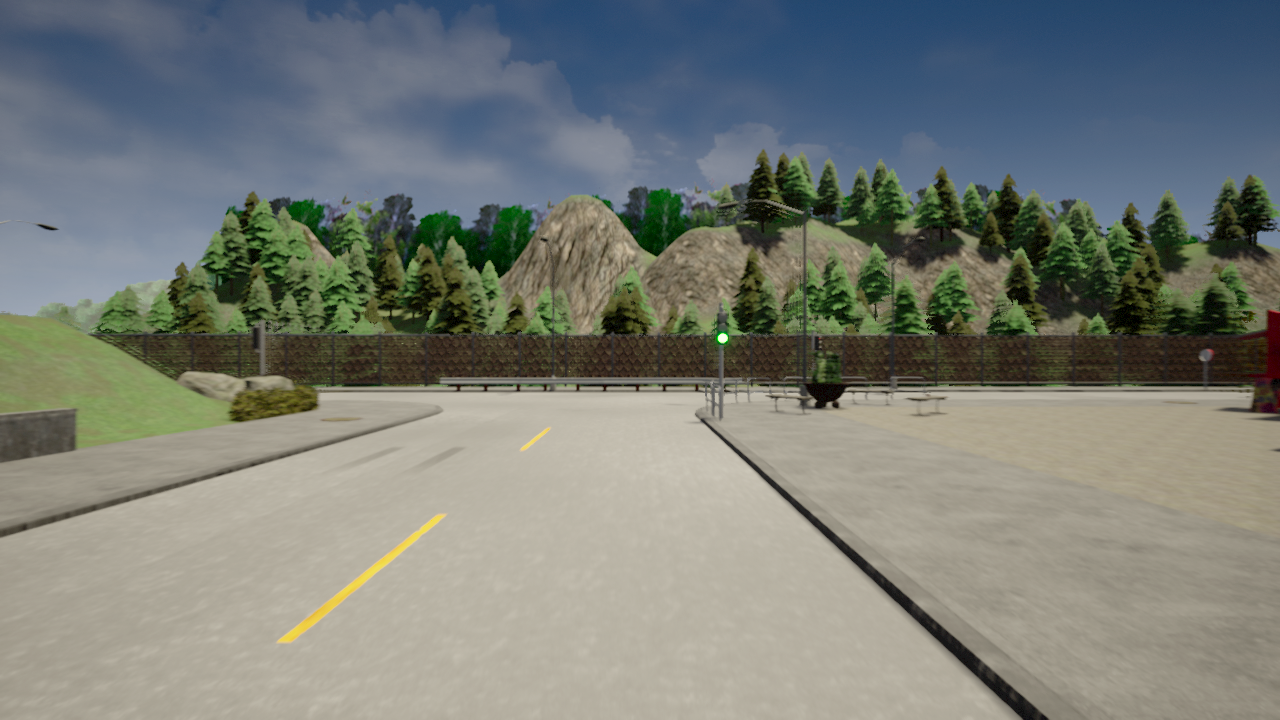green: (715, 311, 729, 344)
